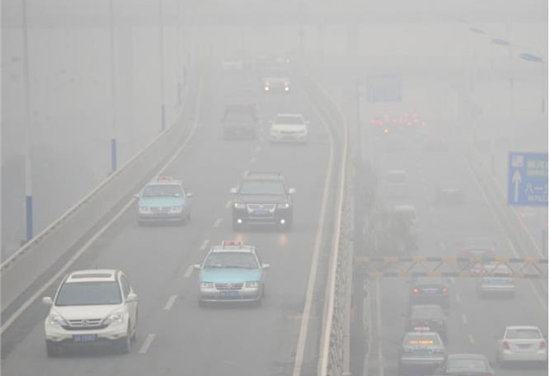car: (42, 269, 141, 354), (193, 241, 271, 307), (230, 167, 297, 231), (133, 176, 194, 225), (396, 322, 446, 374), (490, 324, 549, 364), (399, 302, 452, 341), (406, 269, 454, 308), (434, 352, 498, 376), (268, 111, 313, 144), (478, 259, 515, 294), (220, 111, 258, 143), (261, 67, 294, 96), (389, 203, 420, 232), (435, 177, 466, 206), (382, 169, 410, 199), (426, 129, 450, 152)
